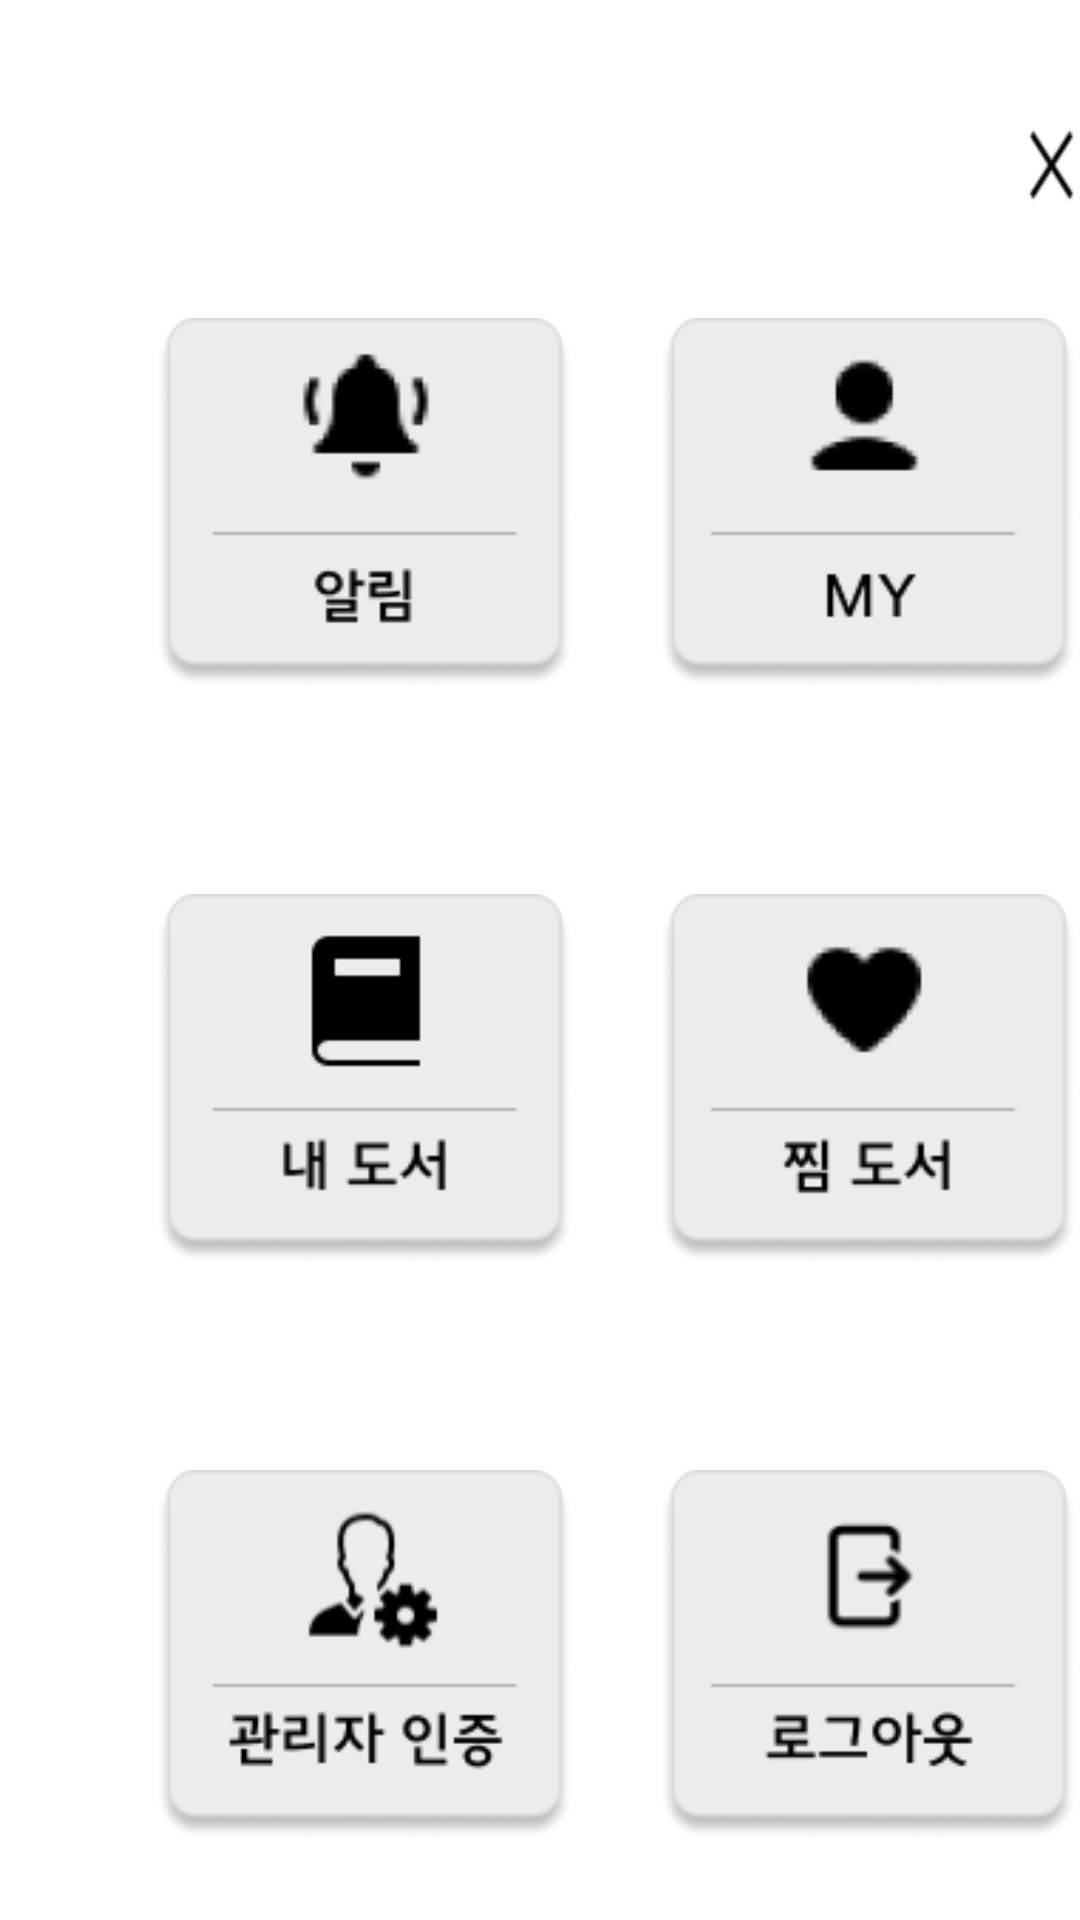

Named icons in this screenshot (1080px×1920px) and their bounding boxes, bbox=(x1, y1, x2, y2):
close: bbox=(1029, 130, 1074, 200)
